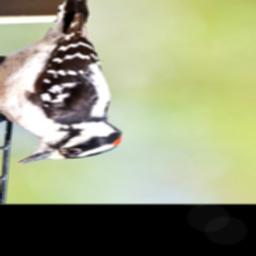Woodpecker: (0, 0, 127, 164)
